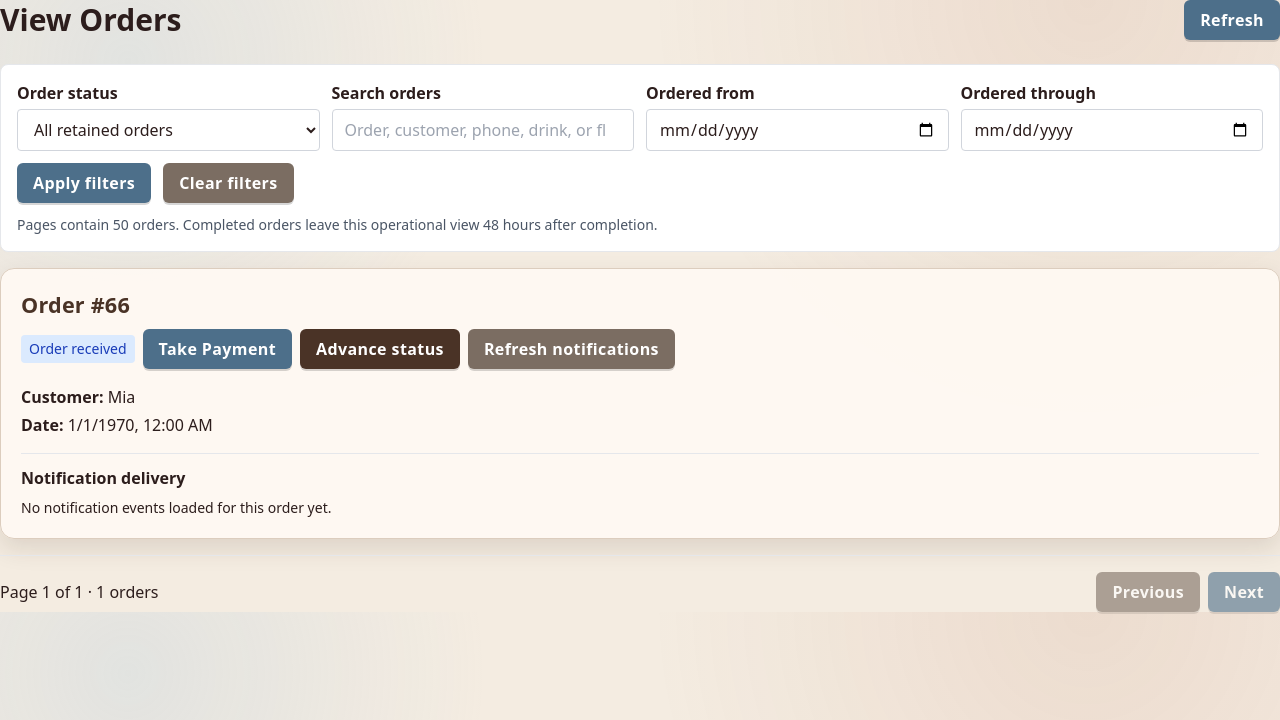
Test: provider-neutral in-person Card payments › handles start HTTP 503 without claiming payment or creating a polling attempt
Click the button "Take Payment".
click(217, 349)  # box [143,329,292,369]
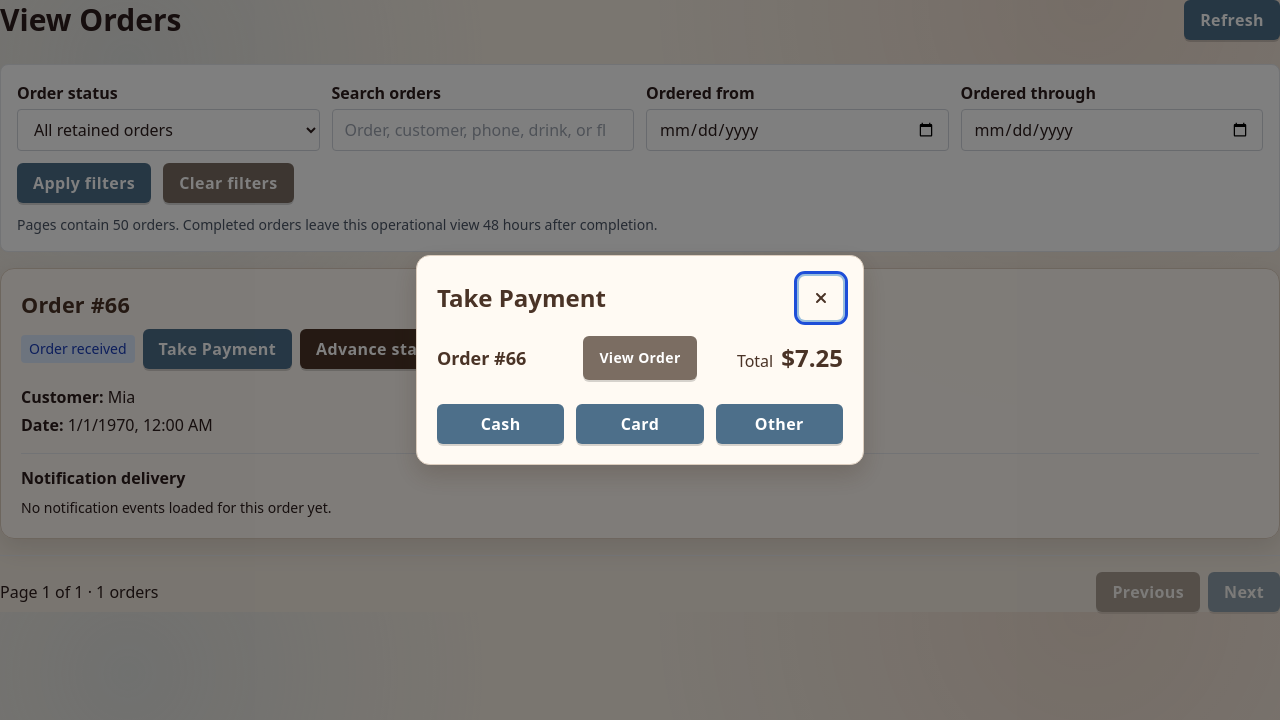
Click the button "Card".
click(640, 424)  # box [576,404,704,444]
Wait 2000 ms
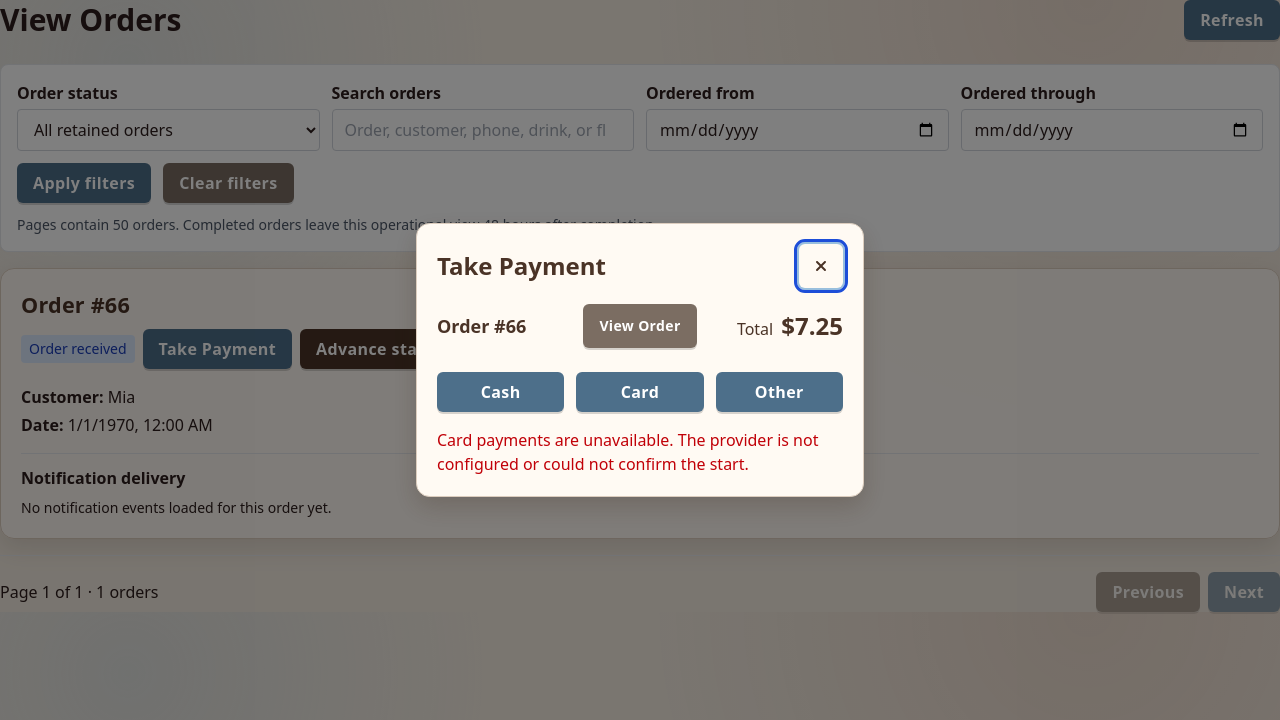
Expected: the button "Card" is enabled, [576,372,704,412]
Expected: the message shows "Card payments are unavailable. The provider is not configured or could not confirm the start.", [437,429,818,475]
